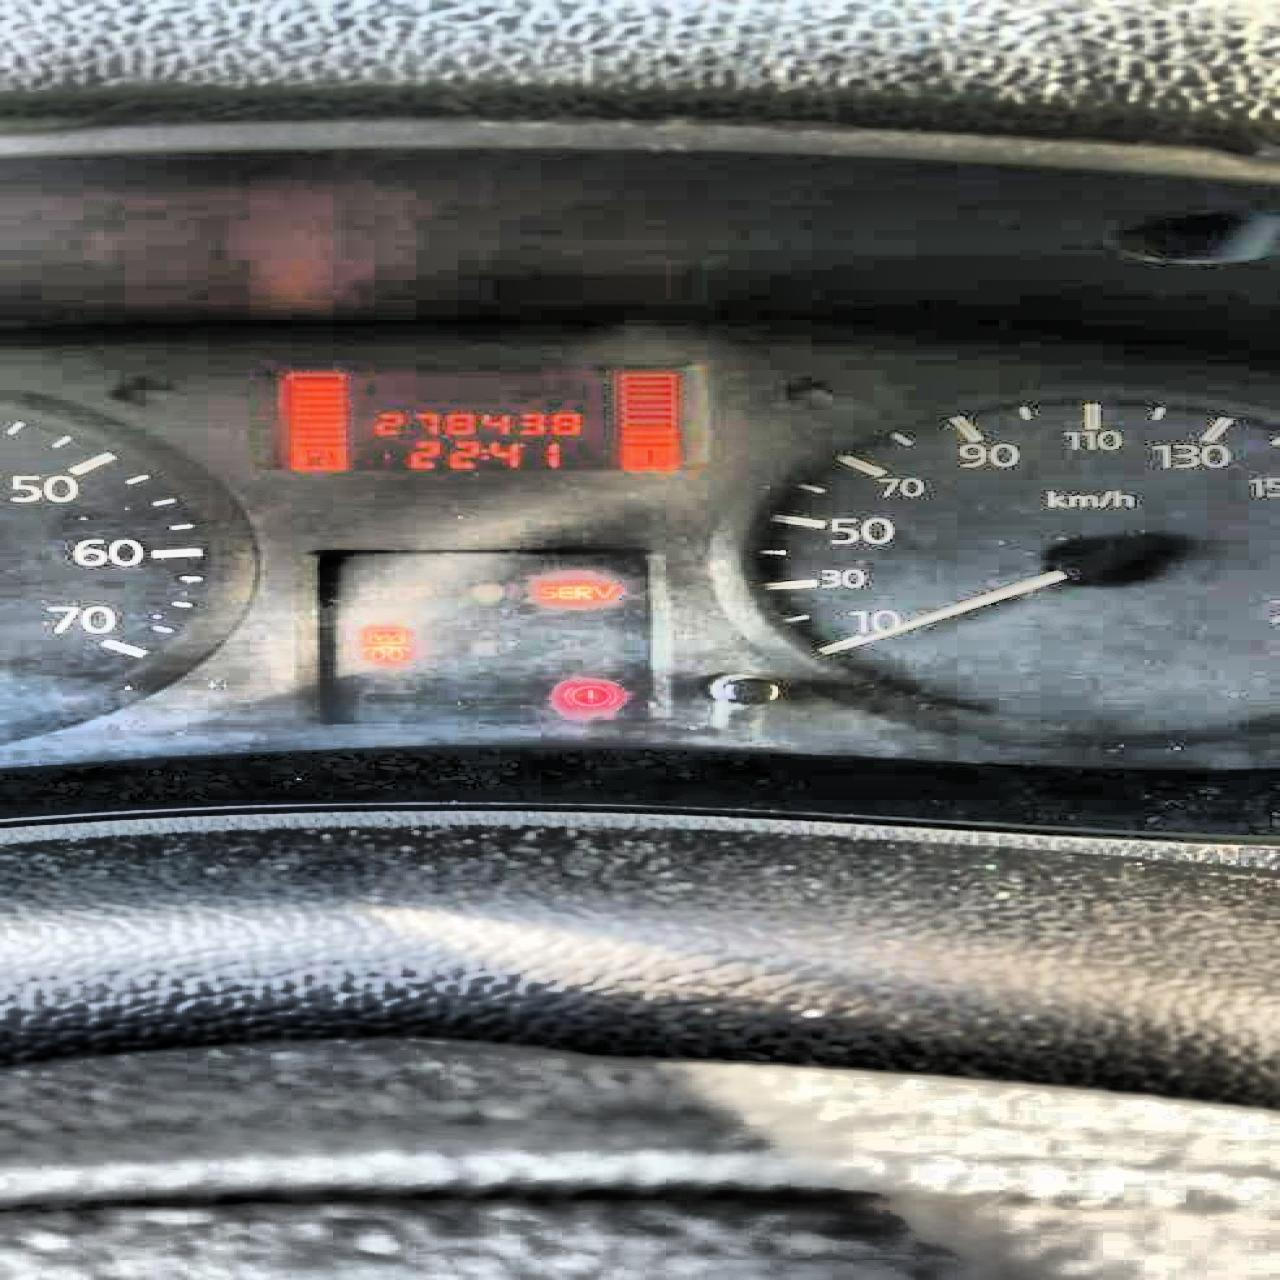1: (542, 442, 559, 468)
2: (406, 441, 440, 468), (445, 441, 479, 468), (372, 413, 403, 434)
3: (515, 413, 542, 434)
4: (486, 442, 517, 468), (478, 413, 508, 433)
7: (414, 413, 437, 434)
8: (549, 413, 580, 434), (443, 413, 474, 434)
X: (478, 448, 486, 458)
odometer: (260, 360, 716, 475)
